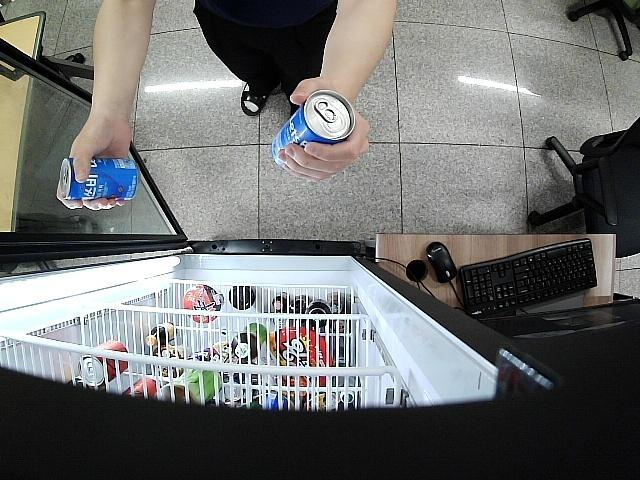15_letsbe: (269, 92, 356, 168), (58, 154, 140, 200)
